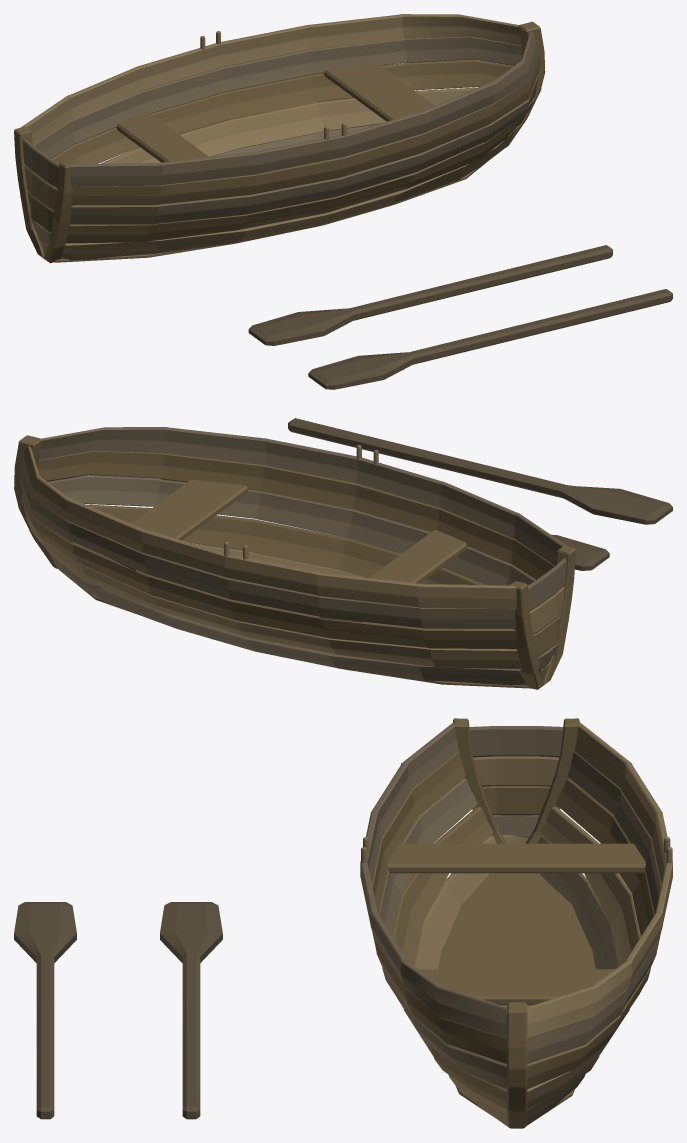
File: Boat_Oars.fbx
3 views of the same model, one above another, from view 1: azimuth 30°, elevation 25°; view 2: azimuth 150°, elevation 25°; view 3: azimuth 270°, elevation 25° (orthographic). The views are drawn at different scales.
Visible parts, largest first — view 1: Boat, Oar2, Oar1; view 2: Boat, Oar2, Oar1; view 3: Boat, Oar1, Oar2.
Part boxes in pixels (bbox=[...]): Boat: bbox=[14, 14, 545, 263]; Oar2: bbox=[308, 289, 672, 389]; Oar1: bbox=[248, 245, 612, 345]; Boat: bbox=[14, 427, 575, 689]; Oar2: bbox=[288, 418, 672, 524]; Oar1: bbox=[551, 534, 609, 570]; Boat: bbox=[360, 718, 672, 1128]; Oar1: bbox=[160, 902, 222, 1119]; Oar2: bbox=[14, 902, 76, 1119].
Size of the model in its own units: 12.84 by 3.14 by 11.94.
